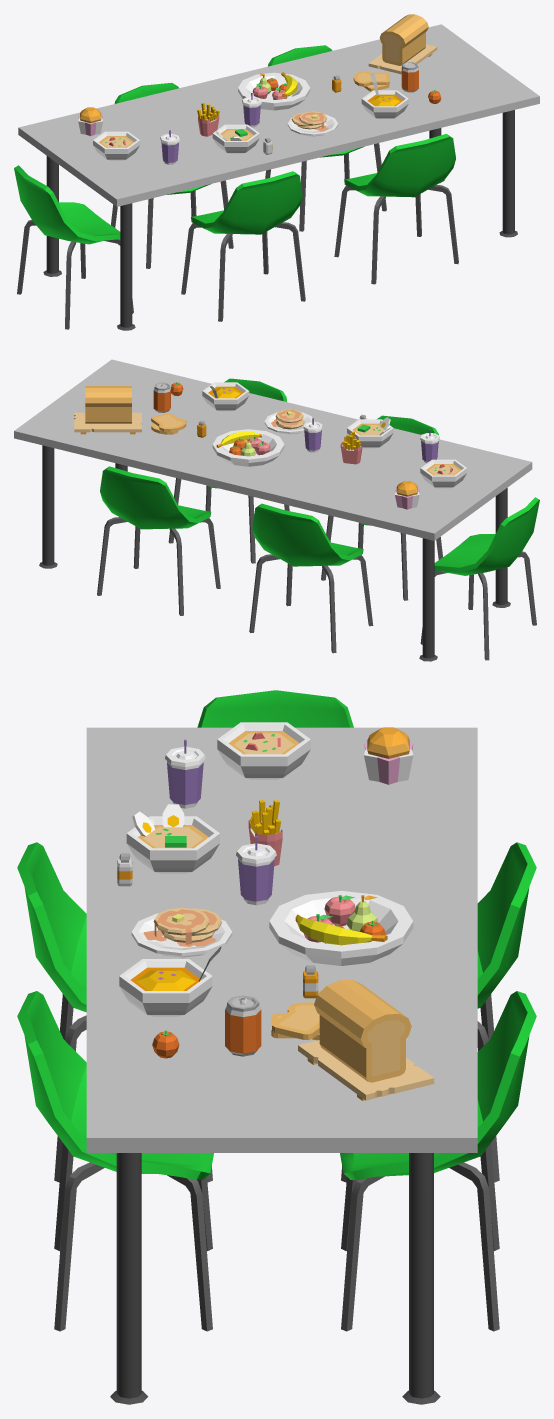
File: CocinaObjetos01.fbx
3 renders of one model, top to bottom at view 1: azimuth 30°, elevation 25°; view 2: azimuth 150°, elevation 25°; view 3: azimuth 270°, elevation 25°, orthographic. The views are drawn at different scales.
Visible parts, largest first — view 1: CocinaObjetos01; view 2: CocinaObjetos01; view 3: CocinaObjetos01.
Part boxes in pixels (left/top/right/bottom): CocinaObjetos01: left=14, top=14, right=539, bottom=330; CocinaObjetos01: left=14, top=359, right=539, bottom=661; CocinaObjetos01: left=17, top=690, right=536, bottom=1404.
Bounding box in the file's own units: 333 × 121 × 161.
